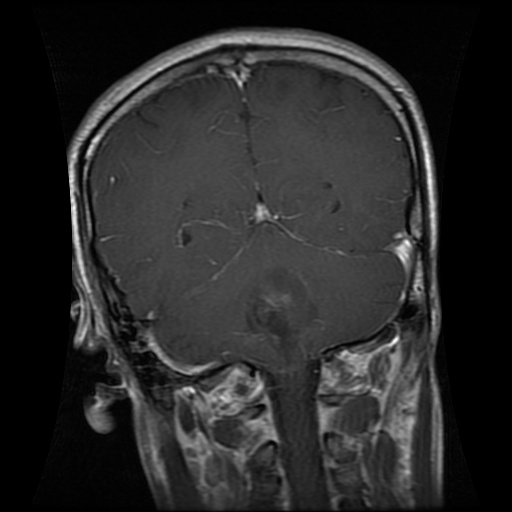glioma: (243, 264, 325, 357)
